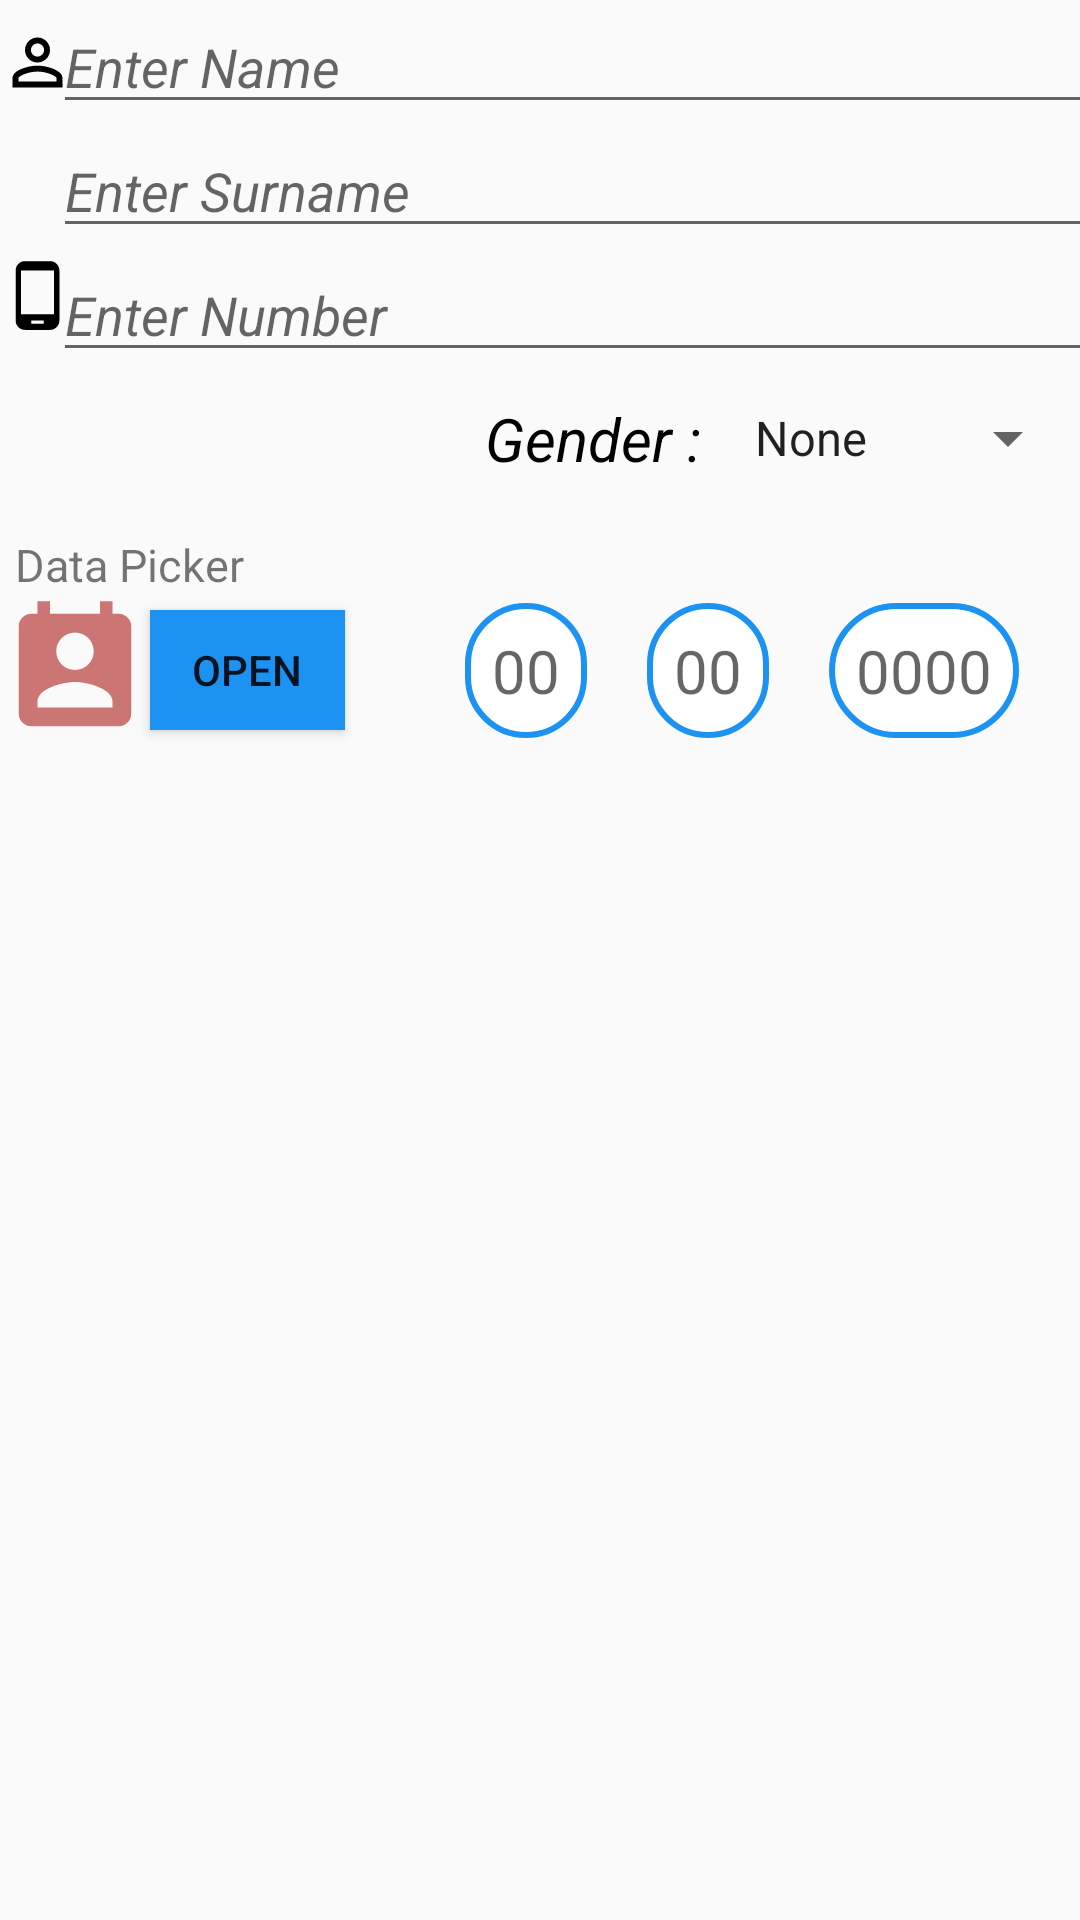

Where icons sit on this 1080 × 1920 app screen, as box=[x1, y1, x2, y2]:
person: box=[12, 37, 63, 88]
phone: box=[15, 261, 60, 330]
